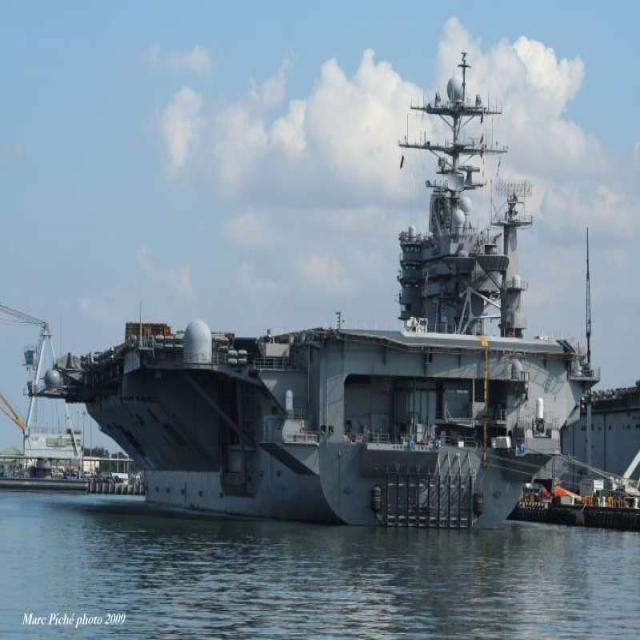Portanaves: (30, 44, 601, 538)
